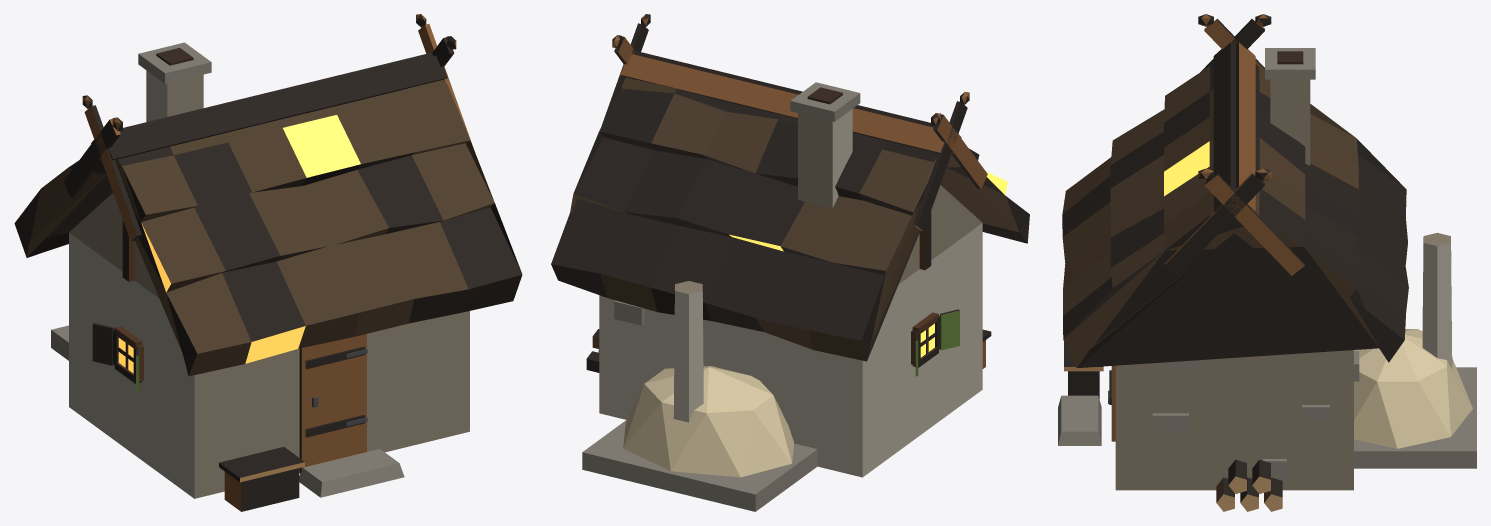
Rendered from Dorf_Backhaus_Beschaedigt.fbx.
3 views of the same model, side by side, from view 1: azimuth 30°, elevation 25°; view 2: azimuth 150°, elevation 25°; view 3: azimuth 270°, elevation 25° (orthographic). The views are drawn at different scales.
Visible parts, largest first — view 1: Dorf_Backhaus_Beschaedigt; view 2: Dorf_Backhaus_Beschaedigt; view 3: Dorf_Backhaus_Beschaedigt.
Boxes of the visible parts, bbox=[...] form: Dorf_Backhaus_Beschaedigt: bbox=[14, 14, 522, 511]; Dorf_Backhaus_Beschaedigt: bbox=[551, 14, 1029, 511]; Dorf_Backhaus_Beschaedigt: bbox=[1058, 14, 1476, 511].
Size of the model in its own units: 4.94 by 4.72 by 5.28.
